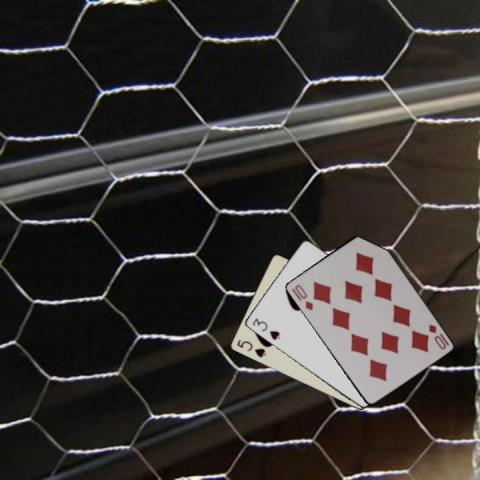10d: (425, 320, 451, 350), (291, 281, 314, 312)
3s: (249, 316, 281, 342)
5s: (234, 336, 267, 359)
